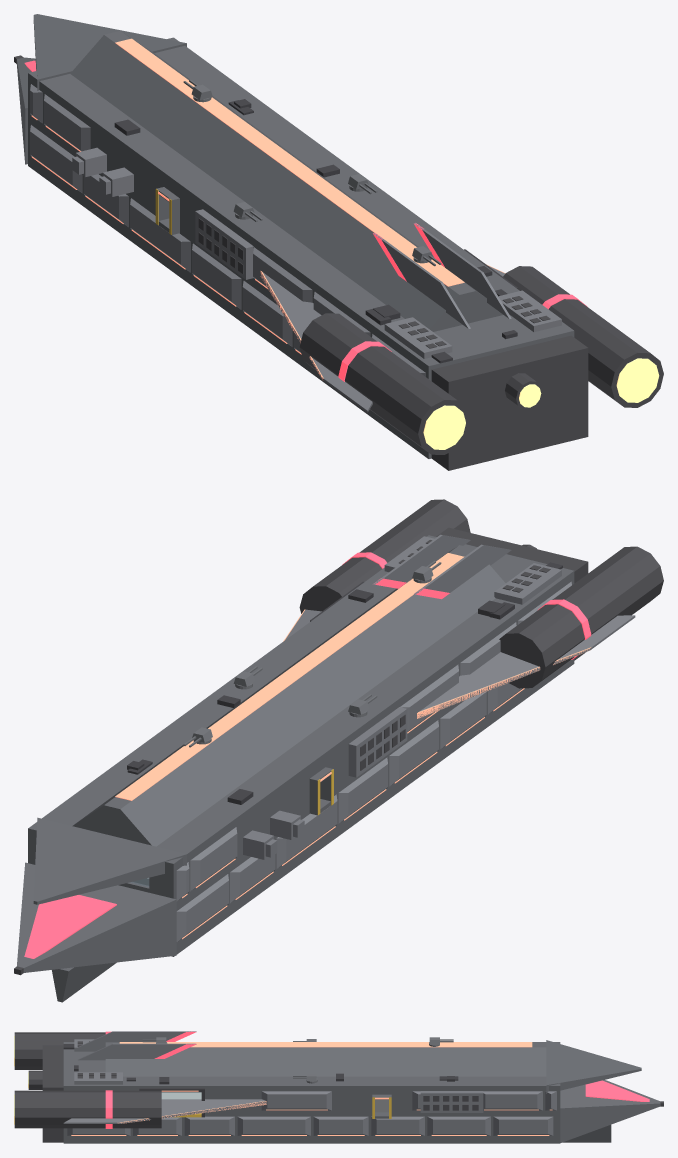
Rendered from ship_SMALL_FRIGATE_v1.glb.
3 renders of one model, top to bottom at view 1: azimuth 30°, elevation 25°; view 2: azimuth 150°, elevation 25°; view 3: azimuth 270°, elevation 25°, orthographic. The views are drawn at different scales.
Visible parts, largest first — view 1: SMALL_FRIGATE_Hull-col, SMALL_FRIGATE_Engines, SMALL_FRIGATE_Armor, SMALL_FRIGATE_Lights, SMALL_FRIGATE_EngineGlow, SMALL_FRIGATE_Details, SMALL_FRIGATE_Accent, SMALL_FRIGATE_EscapePod_1, SMALL_FRIGATE_EscapePod_2; view 2: SMALL_FRIGATE_Hull-col, SMALL_FRIGATE_Armor, SMALL_FRIGATE_Engines, SMALL_FRIGATE_Lights, SMALL_FRIGATE_Accent, SMALL_FRIGATE_Details, SMALL_FRIGATE_EscapePod_2, SMALL_FRIGATE_EscapePod_1; view 3: SMALL_FRIGATE_Hull-col, SMALL_FRIGATE_Armor, SMALL_FRIGATE_Engines, SMALL_FRIGATE_Lights, SMALL_FRIGATE_Accent, SMALL_FRIGATE_Details, SMALL_FRIGATE_Trim, SMALL_FRIGATE_CargoBayDoor-col, SMALL_FRIGATE_CargoBayShield, SMALL_FRIGATE_Hazard, SMALL_FRIGATE_Airlock_2_OuterDoor-col.
Boxes of the visible parts, x1,y1,x2,y2 form: SMALL_FRIGATE_Hull-col: (16, 14, 574, 458); SMALL_FRIGATE_Engines: (14, 55, 663, 470); SMALL_FRIGATE_Armor: (30, 84, 561, 412); SMALL_FRIGATE_Lights: (31, 38, 505, 379); SMALL_FRIGATE_EngineGlow: (423, 358, 659, 449); SMALL_FRIGATE_Details: (114, 99, 517, 363); SMALL_FRIGATE_Accent: (24, 60, 587, 381); SMALL_FRIGATE_EscapePod_1: (99, 167, 133, 196); SMALL_FRIGATE_EscapePod_2: (72, 147, 106, 176); SMALL_FRIGATE_Hull-col: (16, 535, 574, 1002); SMALL_FRIGATE_Armor: (176, 534, 635, 942); SMALL_FRIGATE_Engines: (14, 499, 663, 975); SMALL_FRIGATE_Lights: (115, 553, 591, 939); SMALL_FRIGATE_Accent: (24, 552, 591, 958); SMALL_FRIGATE_Details: (127, 562, 562, 804); SMALL_FRIGATE_EscapePod_2: (243, 830, 277, 859); SMALL_FRIGATE_EscapePod_1: (270, 810, 304, 839); SMALL_FRIGATE_Hull-col: (63, 1040, 660, 1143); SMALL_FRIGATE_Armor: (63, 1031, 556, 1135); SMALL_FRIGATE_Engines: (14, 1032, 663, 1142); SMALL_FRIGATE_Lights: (71, 1042, 552, 1135); SMALL_FRIGATE_Accent: (105, 1031, 649, 1128); SMALL_FRIGATE_Details: (63, 1044, 458, 1084); SMALL_FRIGATE_Trim: (139, 1088, 204, 1117); SMALL_FRIGATE_CargoBayDoor-col: (161, 1092, 201, 1099); SMALL_FRIGATE_CargoBayShield: (161, 1092, 201, 1099); SMALL_FRIGATE_Hazard: (173, 1097, 391, 1118); SMALL_FRIGATE_Airlock_2_OuterDoor-col: (375, 1099, 388, 1112).
Size of the model in its own units: 27.41 by 16.45 by 92.9.
